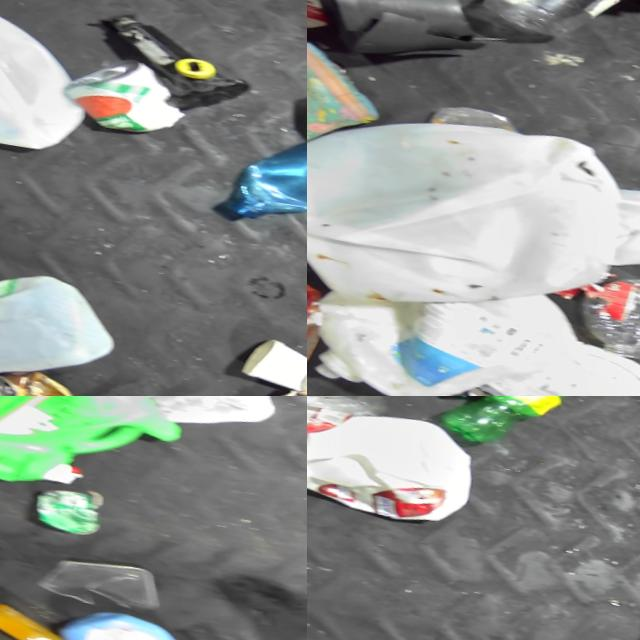can: (59, 55, 193, 149), (9, 480, 117, 548), (0, 362, 86, 396)
milk_jug: (307, 89, 631, 336), (307, 286, 569, 396), (307, 396, 485, 531), (0, 250, 121, 396), (0, 0, 95, 163)
non_white_jug: (0, 396, 193, 510), (30, 598, 220, 640)
plastic_bottle: (307, 396, 389, 473)
